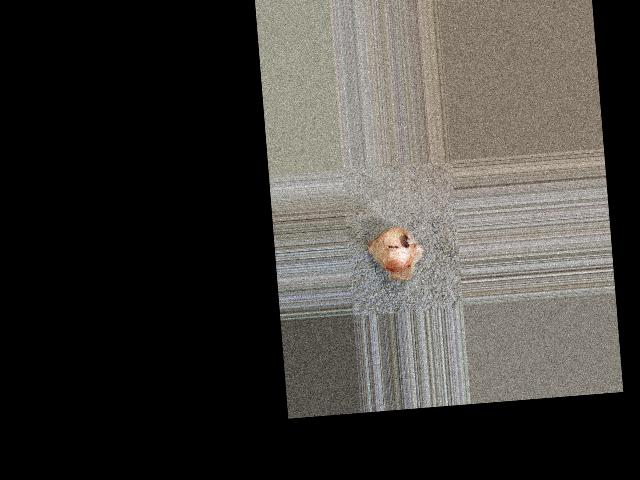onion: (367, 224, 417, 273)
